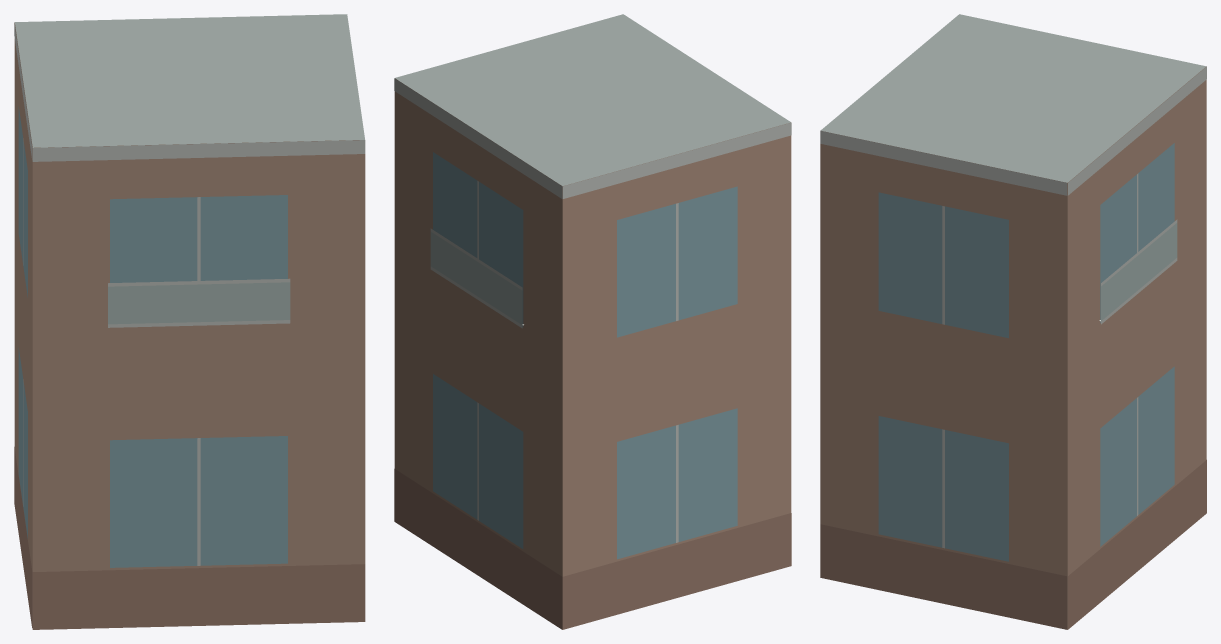
Rendered from survey-upis-32900994.glb.
The picture shows the model from 3 angles, left to right: view 1: azimuth 30°, elevation 25°; view 2: azimuth 150°, elevation 25°; view 3: azimuth 270°, elevation 25°; orthographic projection. The views are drawn at different scales.
Parts seen in each view (by area): view 1: survey-upis-32900994.tmp; view 2: survey-upis-32900994.tmp; view 3: survey-upis-32900994.tmp.
Part boxes in pixels (bbox=[...]): survey-upis-32900994.tmp: bbox=[14, 14, 365, 629]; survey-upis-32900994.tmp: bbox=[394, 14, 791, 629]; survey-upis-32900994.tmp: bbox=[820, 14, 1206, 629].
Size of the model in its own units: 6.73 by 8.3 by 6.51.
